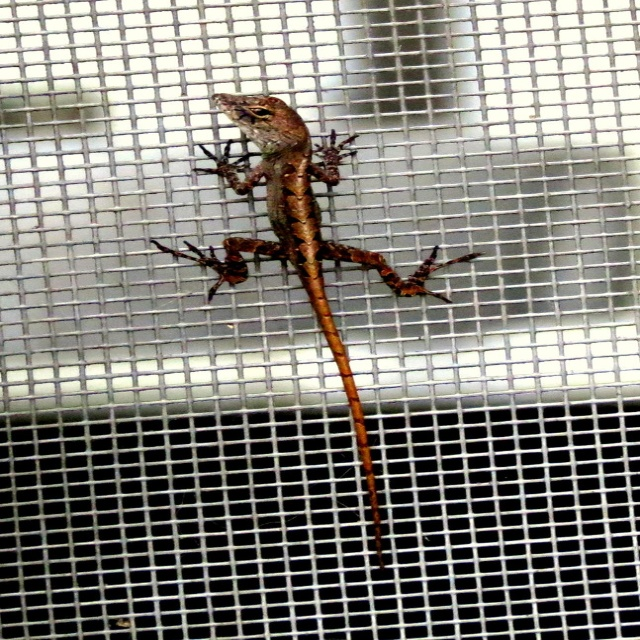Lizard: (155, 94, 485, 560)
